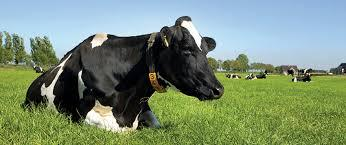cow: (21, 15, 225, 133), (291, 73, 312, 83), (253, 71, 268, 79), (32, 65, 46, 73), (226, 73, 242, 79), (246, 72, 253, 80)
